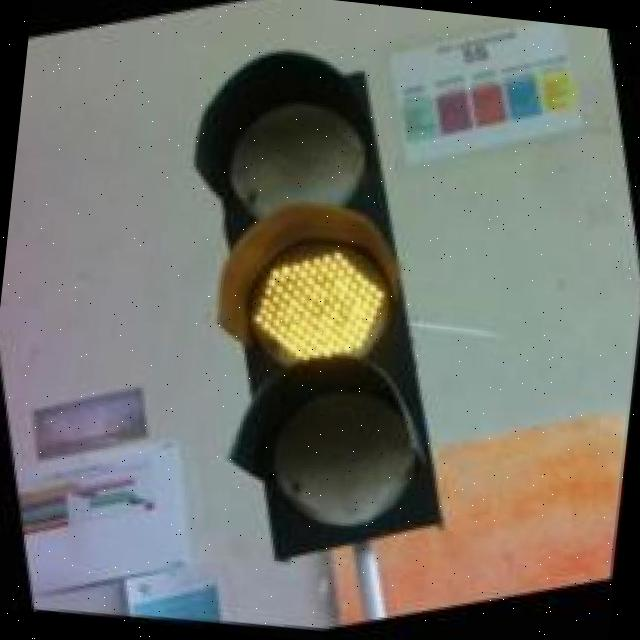yellow_light: (126, 12, 498, 584)
